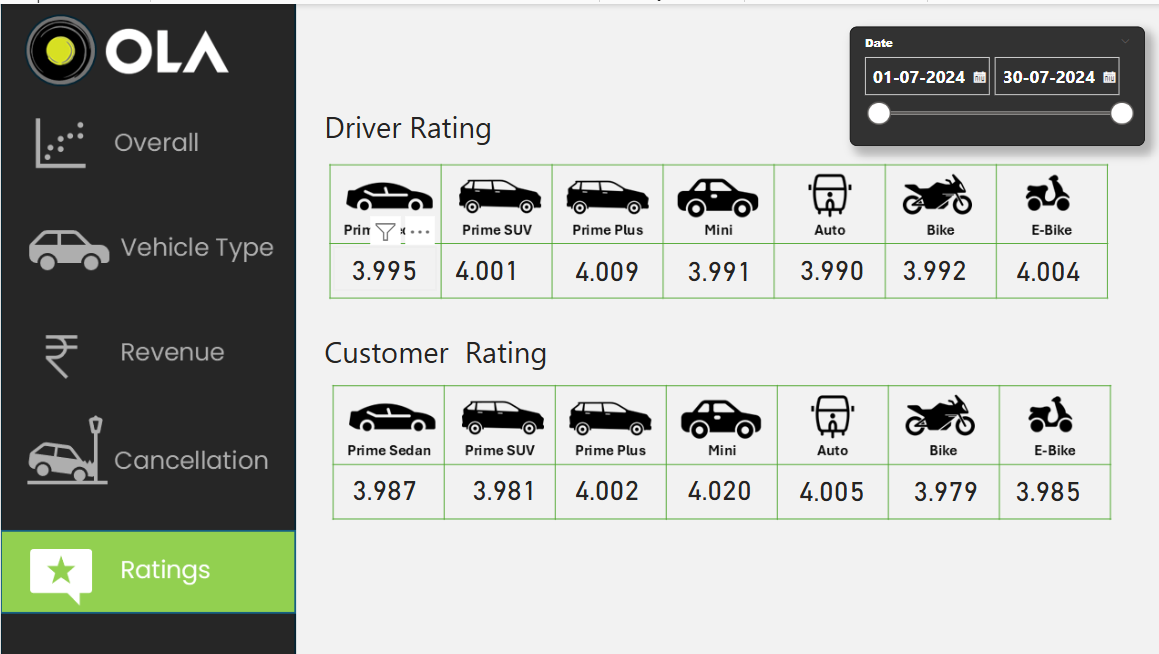

Layout of this report page (visuals, bound fields, positions):
{"tool":"powerbi","page":{"name":"Ratings","canvas":[1280,720],"ordinal":4},"visuals":[{"type":"actionButton","box":[0,204.3,310.4,98.3],"z":0},{"type":"actionButton","box":[0,107.2,319.4,98.3],"z":1000},{"type":"actionButton","box":[0,332.8,319.4,98.3],"z":2000},{"type":"actionButton","box":[0,443.3,319.4,98.3],"z":3000},{"type":"card","fields":{"Values":["Avg(July.Driver_Ratings)"]},"box":[365.2,266.1,112.4,48.8],"z":3001},{"type":"card","fields":{"Values":["Avg(July.Driver_Ratings)"]},"box":[477.5,266.1,112.4,48.8],"z":3002},{"type":"card","fields":{"Values":["Avg(July.Driver_Ratings)"]},"box":[609.1,266.1,112.4,51.7],"z":3003},{"type":"card","fields":{"Values":["Avg(July.Driver_Ratings)"]},"box":[733.3,267.6,112.4,48.8],"z":3004},{"type":"card","fields":{"Values":["Avg(July.Driver_Ratings)"]},"box":[856,266.1,112.4,48.8],"z":3005},{"type":"card","fields":{"Values":["Avg(July.Driver_Ratings)"]},"box":[968.4,266.1,112.4,48.8],"z":3006},{"type":"card","fields":{"Values":["Avg(July.Driver_Ratings)"]},"box":[1094,267.6,112.4,48.8],"z":3007},{"type":"textbox","box":[350.4,107.9,224.7,53.2],"z":3008},{"type":"textbox","box":[350.4,354.8,275,53.2],"z":3009},{"type":"card","fields":{"Values":["Avg(July.Customer_Rating)"]},"box":[365.2,507.1,112.4,48.8],"z":3010},{"type":"card","fields":{"Values":["Avg(July.Customer_Rating)"]},"box":[496.7,507.1,112.4,48.8],"z":3011},{"type":"card","fields":{"Values":["Avg(July.Customer_Rating)"]},"box":[609.1,507.1,112.4,48.8],"z":3012},{"type":"card","fields":{"Values":["Avg(July.Customer_Rating)"]},"box":[733.3,507.1,112.4,48.8],"z":3013},{"type":"card","fields":{"Values":["Avg(July.Customer_Rating)"]},"box":[856,508.6,112.4,48.8],"z":3014},{"type":"card","fields":{"Values":["Avg(July.Customer_Rating)"]},"box":[981.7,508.6,112.4,48.8],"z":3015},{"type":"card","fields":{"Values":["Avg(July.Customer_Rating)"]},"box":[1094,508.6,112.4,48.8],"z":3016},{"type":"slicer","fields":{"Values":["July.Date"]},"box":[931.4,25.1,323.8,131.6],"z":3017}]}

Visuals, with their boxes in screenshot pixels (x1, y1, x2, y2), scaled from the page's 1280x720 canvas onto the 1159x654 screenshot:
actionButton: 0/186/281/275
actionButton: 0/97/289/187
actionButton: 0/302/289/392
actionButton: 0/403/289/492
card - Avg(July.Driver_Ratings): 331/242/432/286
card - Avg(July.Driver_Ratings): 432/242/534/286
card - Avg(July.Driver_Ratings): 552/242/653/289
card - Avg(July.Driver_Ratings): 664/243/766/287
card - Avg(July.Driver_Ratings): 775/242/877/286
card - Avg(July.Driver_Ratings): 877/242/979/286
card - Avg(July.Driver_Ratings): 991/243/1092/287
textbox: 317/98/521/146
textbox: 317/322/566/371
card - Avg(July.Customer_Rating): 331/461/432/505
card - Avg(July.Customer_Rating): 450/461/552/505
card - Avg(July.Customer_Rating): 552/461/653/505
card - Avg(July.Customer_Rating): 664/461/766/505
card - Avg(July.Customer_Rating): 775/462/877/506
card - Avg(July.Customer_Rating): 889/462/991/506
card - Avg(July.Customer_Rating): 991/462/1092/506
slicer - July.Date: 843/23/1137/142
